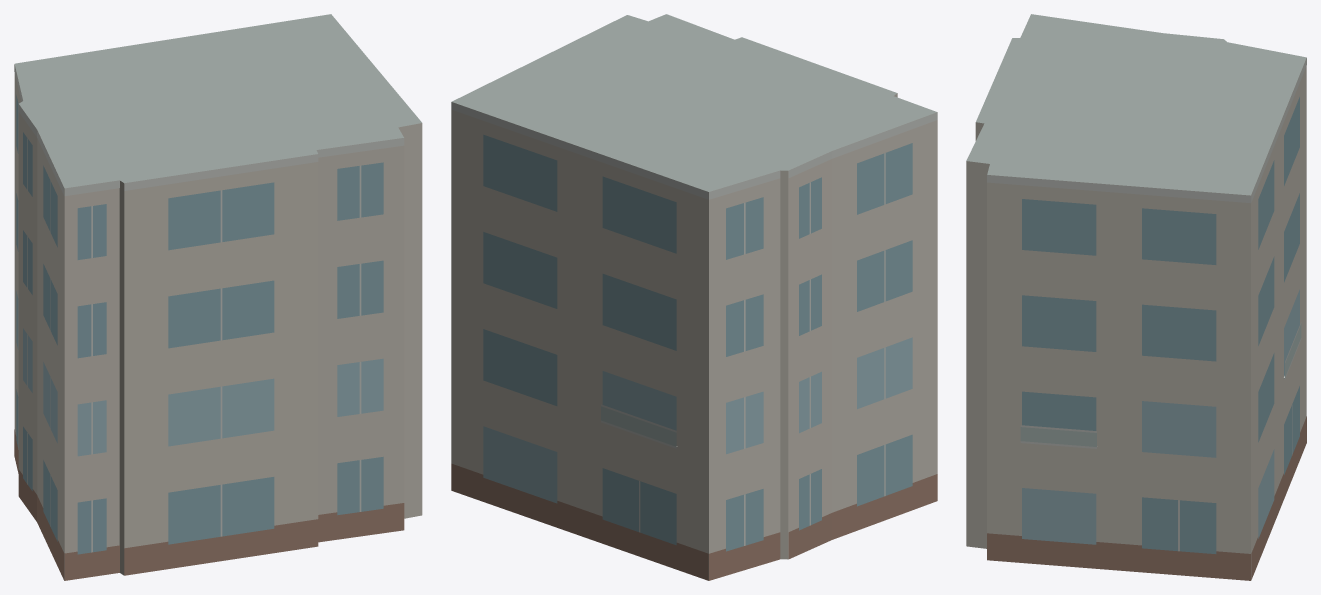
The model's file is survey-upis-32946719.glb.
3 renders of one model, left to right at view 1: azimuth 30°, elevation 25°; view 2: azimuth 150°, elevation 25°; view 3: azimuth 270°, elevation 25°, orthographic.
Parts seen in each view (by area): view 1: survey-upis-32946719.tmp; view 2: survey-upis-32946719.tmp; view 3: survey-upis-32946719.tmp.
Part boxes in pixels (<box>): survey-upis-32946719.tmp: <box>14,14,422,580</box>; survey-upis-32946719.tmp: <box>451,14,937,580</box>; survey-upis-32946719.tmp: <box>966,14,1306,580</box>.
Size of the model in its own units: 12.33 by 12.2 by 9.78.
